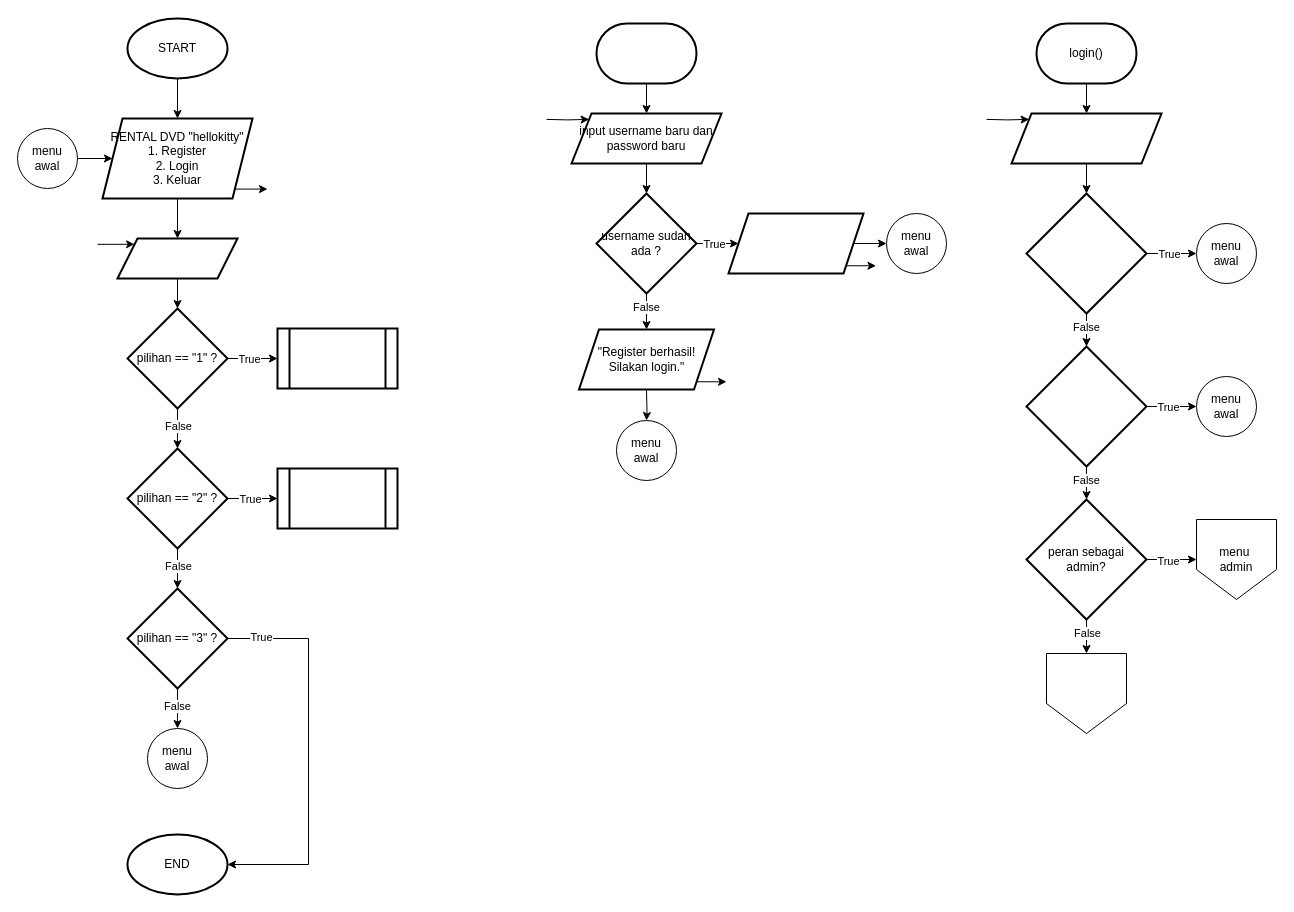
Image size: 1294x912. Some labels were removed from this diagram. Each missing label, with the box of its shape:
"Username sudah terpakai!": (727, 212, 864, 274)
akun tidak terdaftar?: (1025, 345, 1147, 467)
input pilihan: (116, 237, 238, 279)
input username dan password: (1010, 112, 1162, 164)
login: (276, 467, 398, 529)
menu pengguna: (1046, 652, 1126, 734)
register: (276, 327, 398, 389)
register(): (595, 22, 697, 84)
username ada dan password salah?: (1025, 192, 1147, 314)
